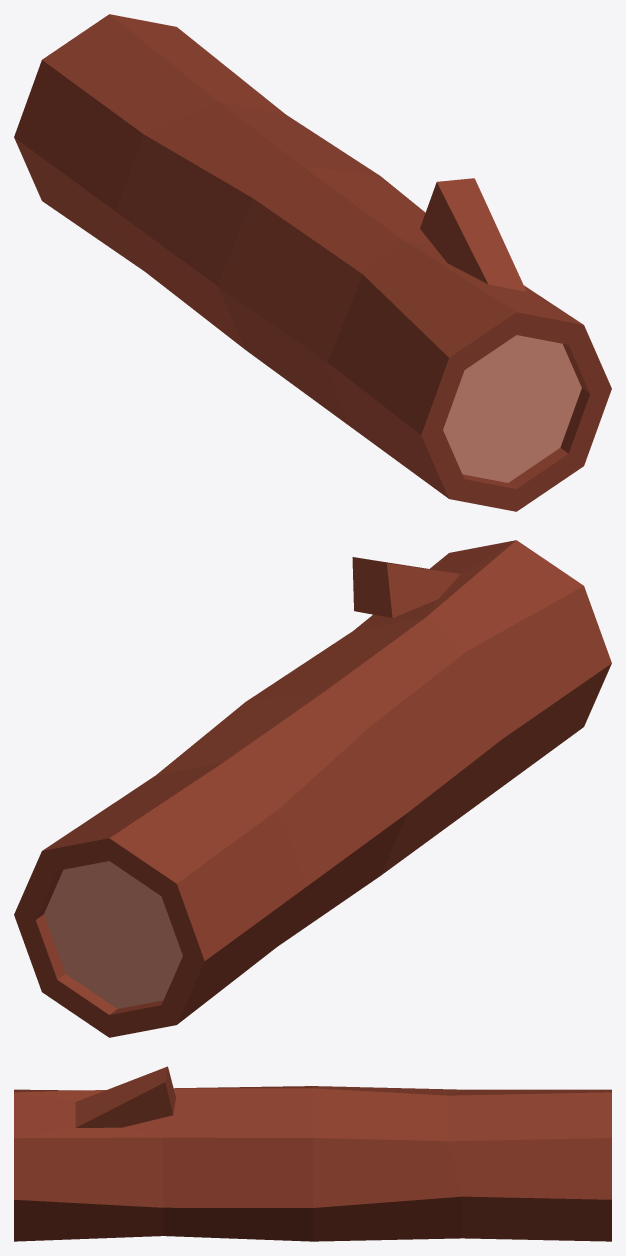
File: log_7a.fbx
The picture shows the model from 3 angles, top to bottom: view 1: azimuth 30°, elevation 25°; view 2: azimuth 150°, elevation 25°; view 3: azimuth 270°, elevation 25°; orthographic projection. The views are drawn at different scales.
Parts seen in each view (by area): view 1: log_7a; view 2: log_7a; view 3: log_7a.
Part boxes in pixels (x1,y1,x2,y2): log_7a: (14,14,611,511); log_7a: (14,540,611,1037); log_7a: (14,1066,611,1241).
Bounding box in the file's own units: 53.77 × 65.85 × 197.
